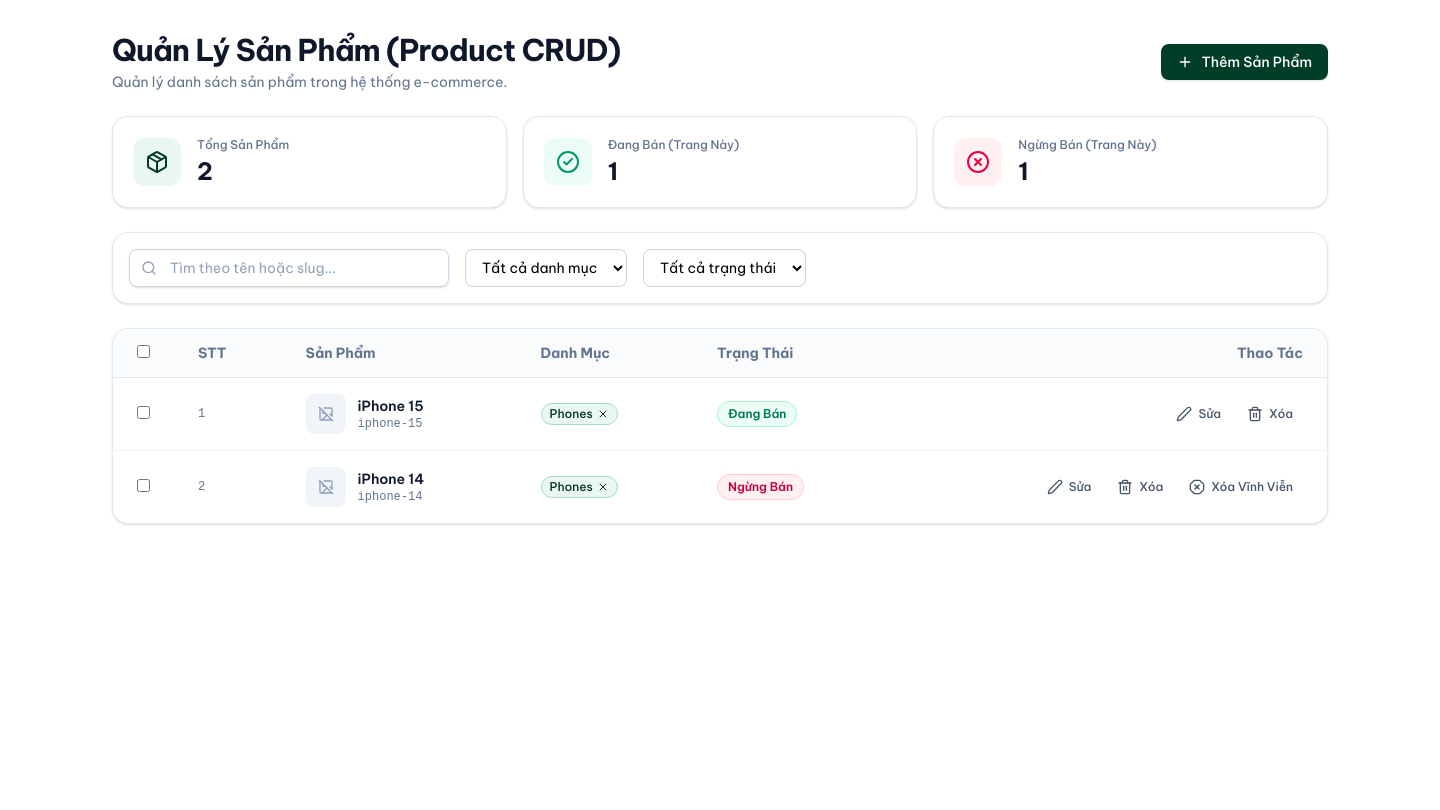
Test: ProductsPage › soft-deletes a product via the confirmation modal
Click the button titled "Ngừng bán" in the row of "iPhone 15" at (1270, 414), box [1237,400,1303,428]
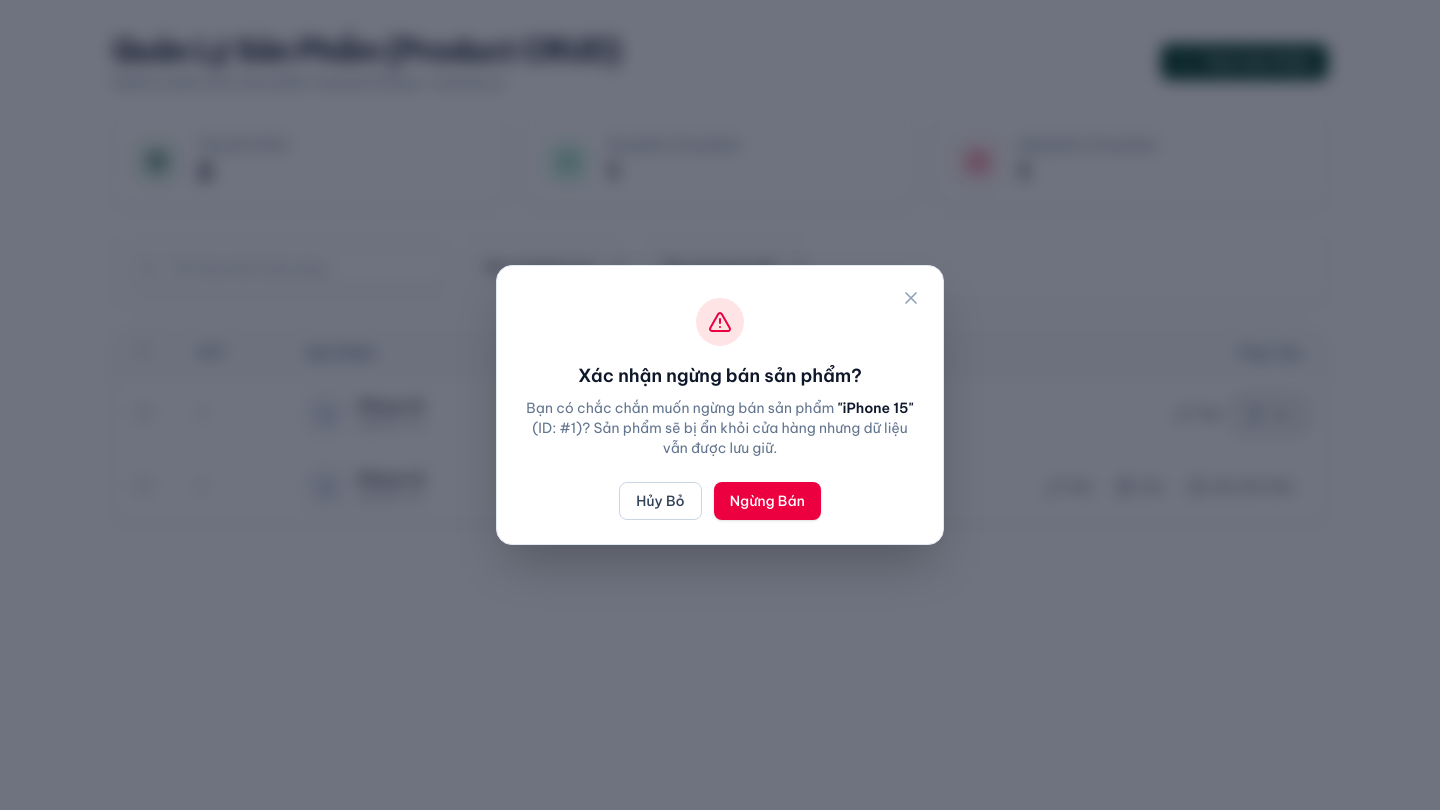
Click the button "Ngừng Bán" at (767, 501), box [714,482,821,520]
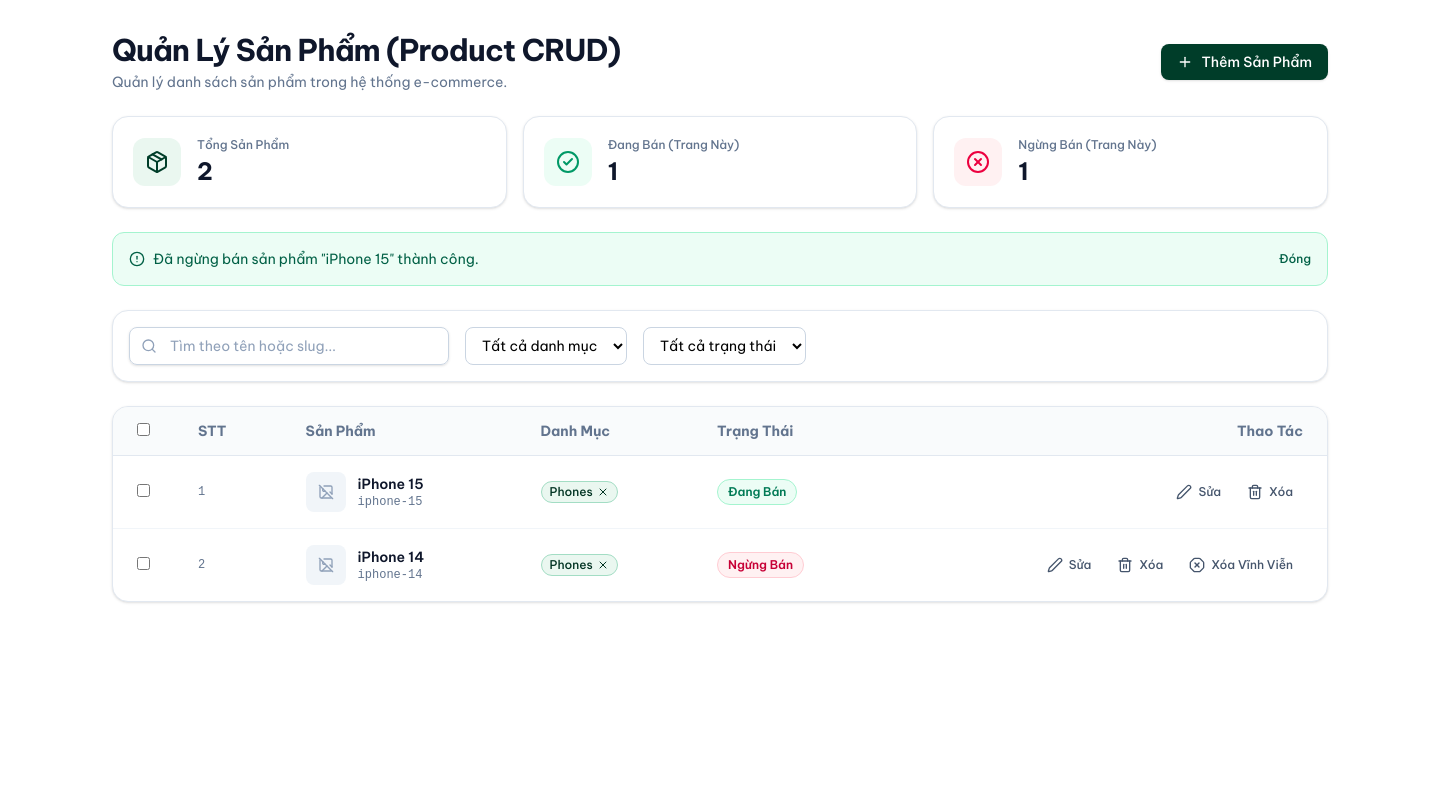
expect the text "Đã ngừng bán sản phẩm \"iPhone 15\" thành công." is shown: met, box [153,249,479,269]
